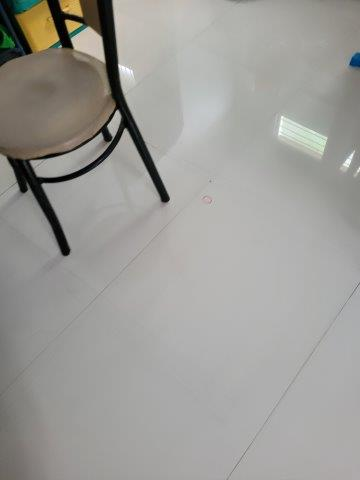karet: (200, 194, 214, 207)
